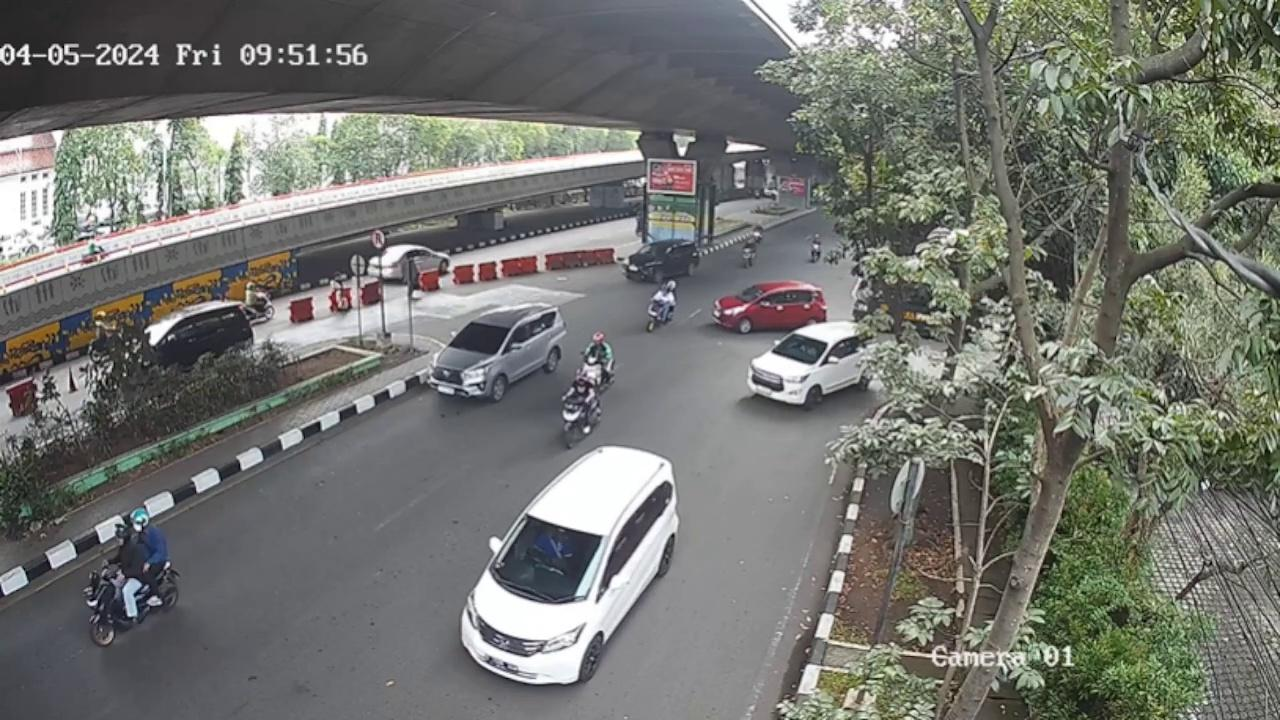pakai: (535, 530, 570, 564)
windshield: (497, 514, 601, 603), (445, 319, 513, 364)
